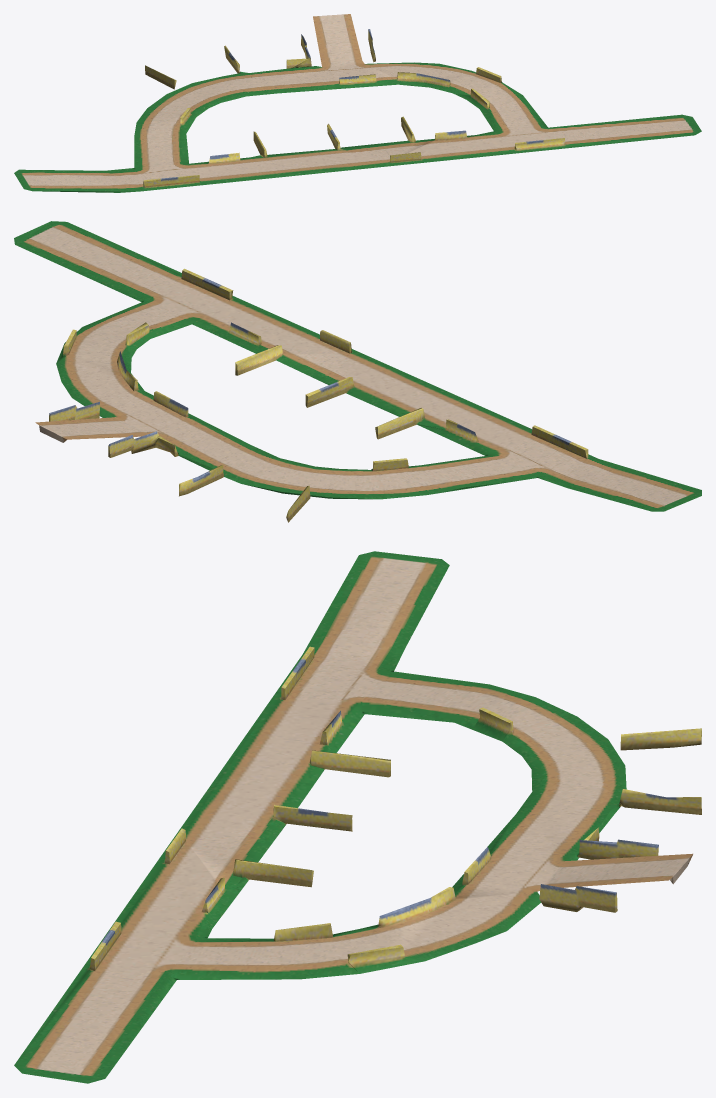
Rendered from clod_town_t02_clod001.gltf.
3 views of the same model, one above another, from view 1: azimuth 30°, elevation 25°; view 2: azimuth 150°, elevation 25°; view 3: azimuth 270°, elevation 25° (orthographic). The views are drawn at different scales.
Parts seen in each view (by area): view 1: clod_town_t02_clod001_000_meshShape:remesh_mat; view 2: clod_town_t02_clod001_000_meshShape:remesh_mat; view 3: clod_town_t02_clod001_000_meshShape:remesh_mat.
Boxes of the visible parts, bbox=[...] form: clod_town_t02_clod001_000_meshShape:remesh_mat: bbox=[14, 14, 701, 192]; clod_town_t02_clod001_000_meshShape:remesh_mat: bbox=[14, 221, 701, 522]; clod_town_t02_clod001_000_meshShape:remesh_mat: bbox=[14, 551, 701, 1083].
Bounding box in the file's own units: 164 × 8 × 93.27.
Materials: 1 (1 with a texture image).
